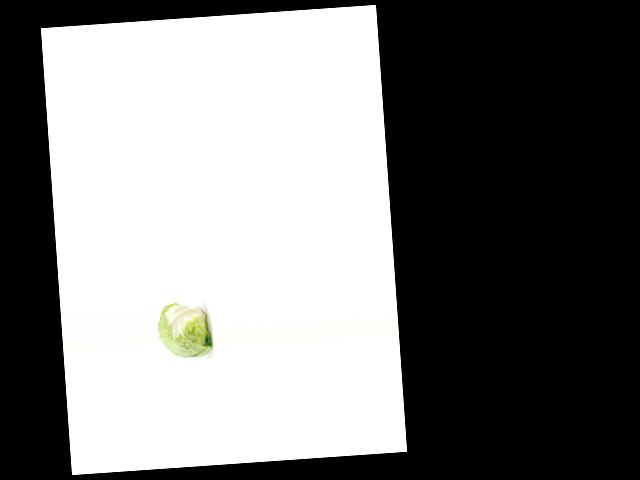lettuce: (156, 299, 215, 361)
